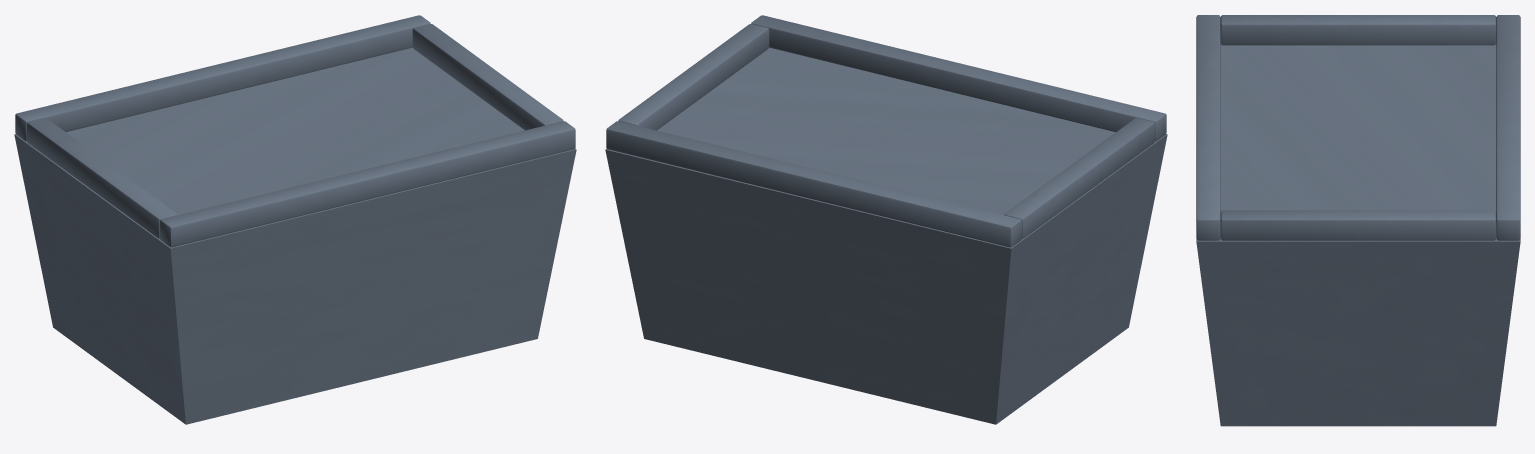
Rendered from storage_tote_slate.glb.
3 views of the same model, side by side, from view 1: azimuth 30°, elevation 25°; view 2: azimuth 150°, elevation 25°; view 3: azimuth 270°, elevation 25° (orthographic). The views are drawn at different scales.
Visible parts, largest first — view 1: Tote_Body, Rim_F, Rim_B, Rim_L, Rim_R; view 2: Tote_Body, Rim_B, Rim_F, Rim_L, Rim_R; view 3: Tote_Body, Rim_L, Rim_R, Rim_B, Rim_F.
Part boxes in pixels (x1=…): Tote_Body: x1=14, y1=47, x2=576, y2=424; Rim_F: x1=159, y1=121, x2=575, y2=247; Rim_B: x1=15, y1=15, x2=430, y2=141; Rim_L: x1=27, y1=118, x2=177, y2=238; Rim_R: x1=412, y1=24, x2=563, y2=130; Tote_Body: x1=605, y1=47, x2=1167, y2=424; Rim_B: x1=606, y1=121, x2=1022, y2=247; Rim_F: x1=751, y1=15, x2=1166, y2=141; Rim_L: x1=1004, y1=118, x2=1154, y2=238; Rim_R: x1=618, y1=24, x2=769, y2=130; Tote_Body: x1=1196, y1=43, x2=1520, y2=426; Rim_L: x1=1220, y1=15, x2=1496, y2=45; Rim_R: x1=1220, y1=210, x2=1496, y2=240; Rim_B: x1=1496, y1=15, x2=1520, y2=240; Rim_F: x1=1196, y1=15, x2=1220, y2=240.
Bounding box in the file's own units: 0.6 × 0.3 × 0.4.
Materials: 4 (3 with a texture image).
